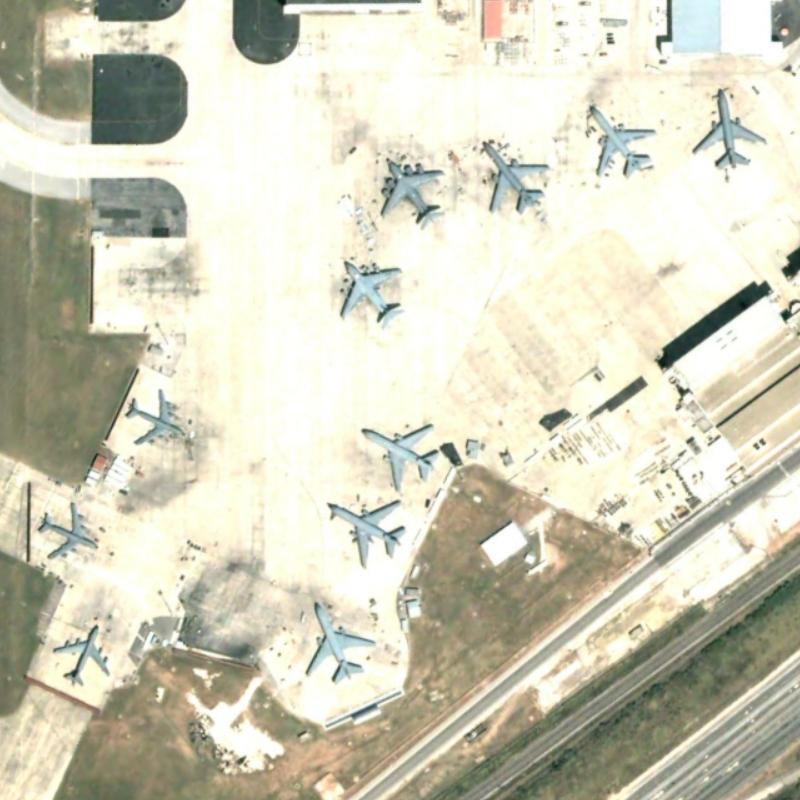A14: (28, 496, 104, 565), (48, 615, 117, 689), (122, 385, 186, 447)
A18: (683, 82, 775, 171), (297, 592, 381, 685), (320, 492, 415, 570), (581, 96, 662, 182), (359, 414, 446, 493), (475, 133, 553, 218)
A3: (367, 149, 452, 235), (329, 254, 415, 332)
